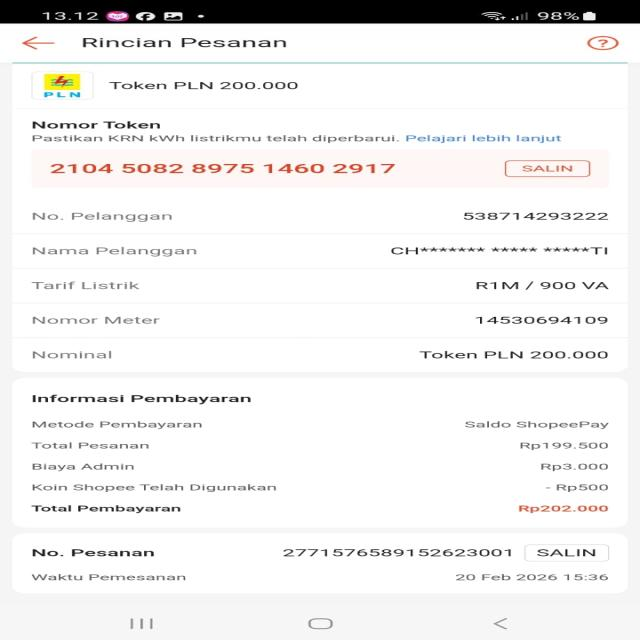date: (448, 570, 610, 584)
store: (102, 78, 306, 96)
total: (28, 501, 617, 520)
